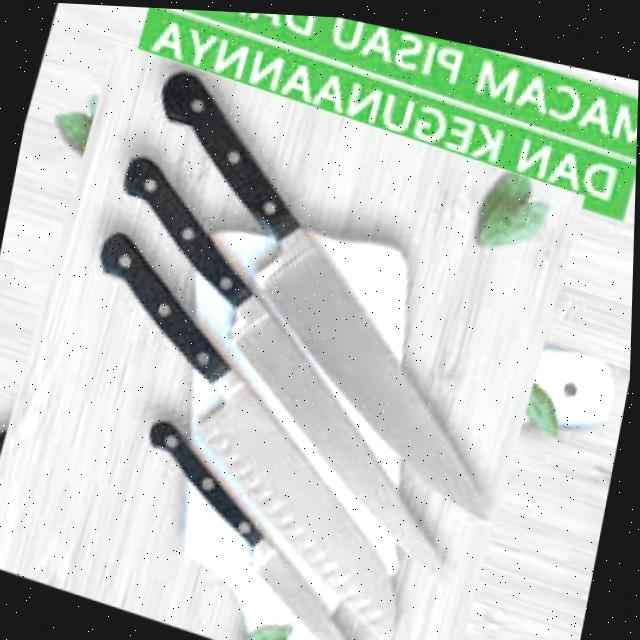knife: (92, 60, 561, 518), (62, 148, 511, 575), (38, 222, 462, 640), (113, 409, 414, 640)
